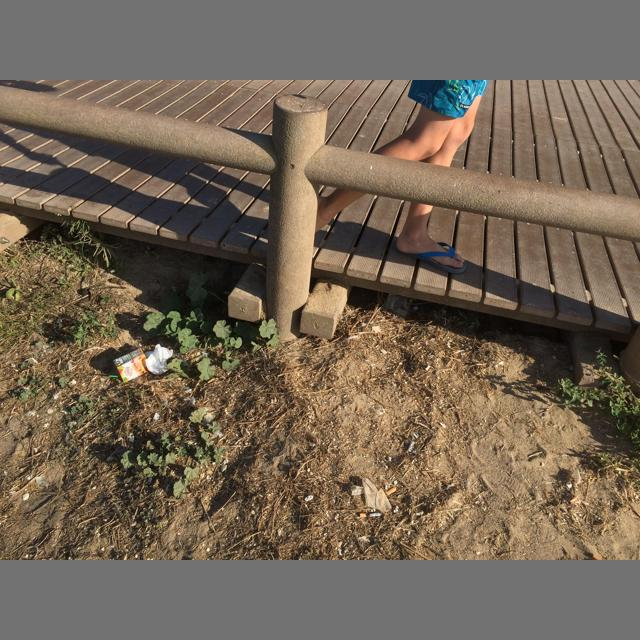litter: (351, 477, 392, 511), (113, 348, 149, 383), (145, 344, 173, 374), (573, 469, 581, 483), (360, 512, 382, 517), (385, 486, 397, 495), (407, 440, 414, 452), (146, 429, 156, 437), (592, 554, 602, 560), (357, 446, 367, 451), (109, 374, 120, 378), (356, 404, 359, 412)
